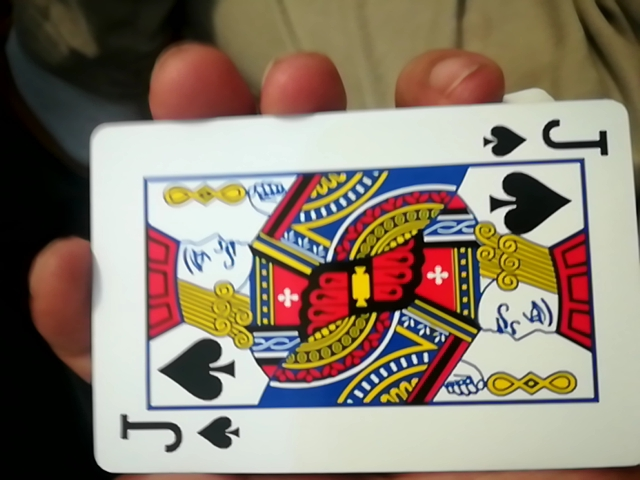ht j: (71, 106, 632, 480)
